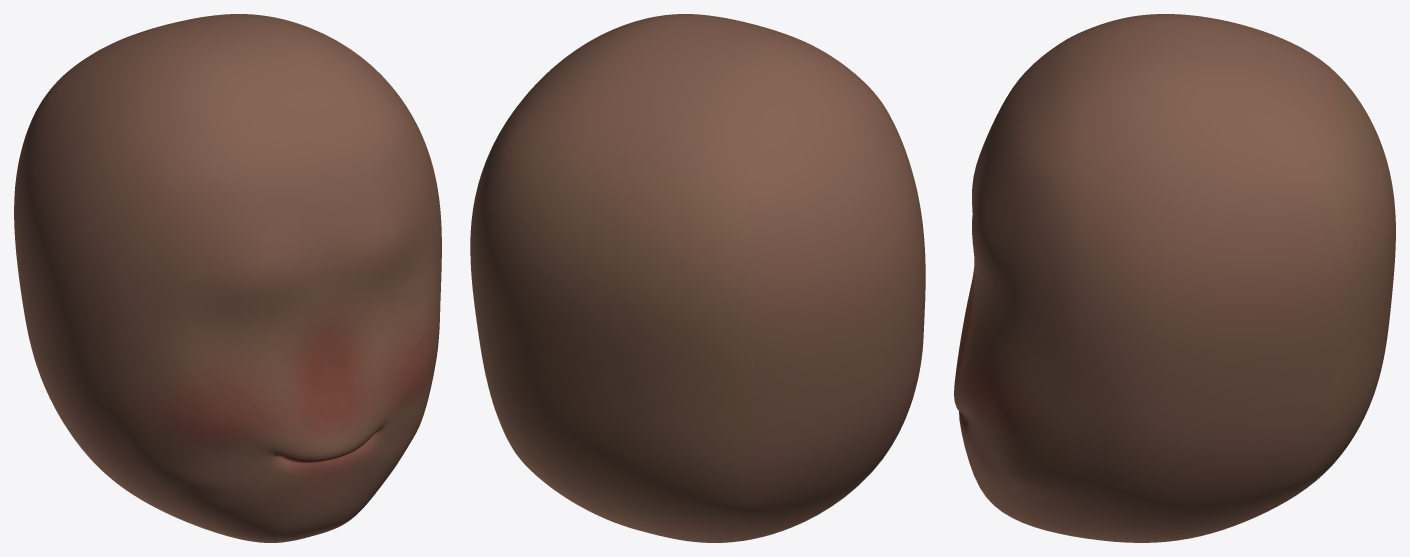
File: head2.glb
3 renders of one model, left to right at view 1: azimuth 30°, elevation 25°; view 2: azimuth 150°, elevation 25°; view 3: azimuth 270°, elevation 25°, orthographic. The views are drawn at different scales.
Visible parts, largest first — view 1: head.002; view 2: head.002; view 3: head.002.
Part boxes in pixels (bbox=[...]): head.002: bbox=[14, 14, 441, 542]; head.002: bbox=[470, 14, 925, 542]; head.002: bbox=[954, 14, 1395, 542].
Bounding box in the file's own units: 1.35 × 1.62 × 1.34.
1 material, 1 textured.
